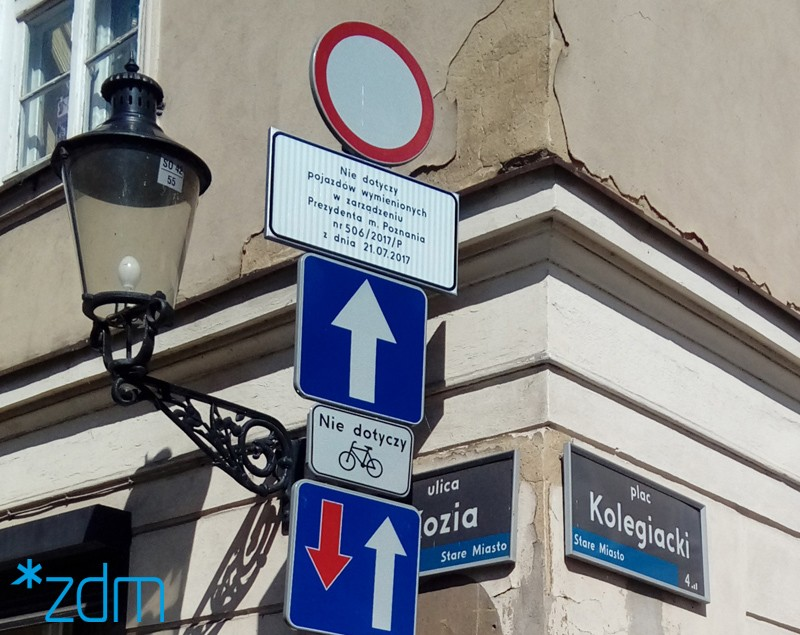no_entry_sign: (312, 20, 435, 168)
